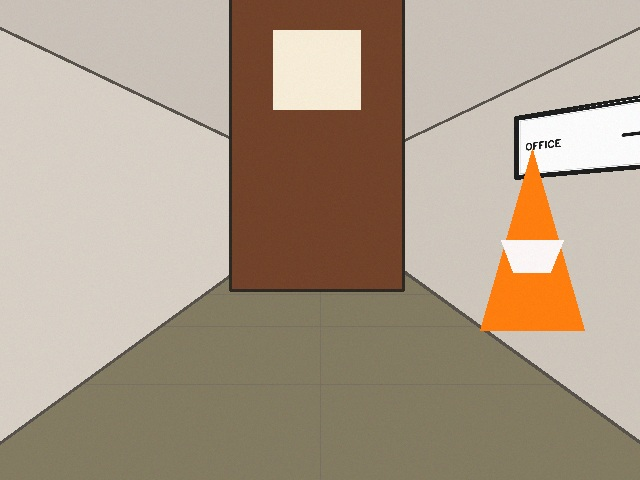directional_sign: (515, 93, 639, 178)
door: (230, 0, 403, 290)
obstacle: (480, 149, 584, 330)
